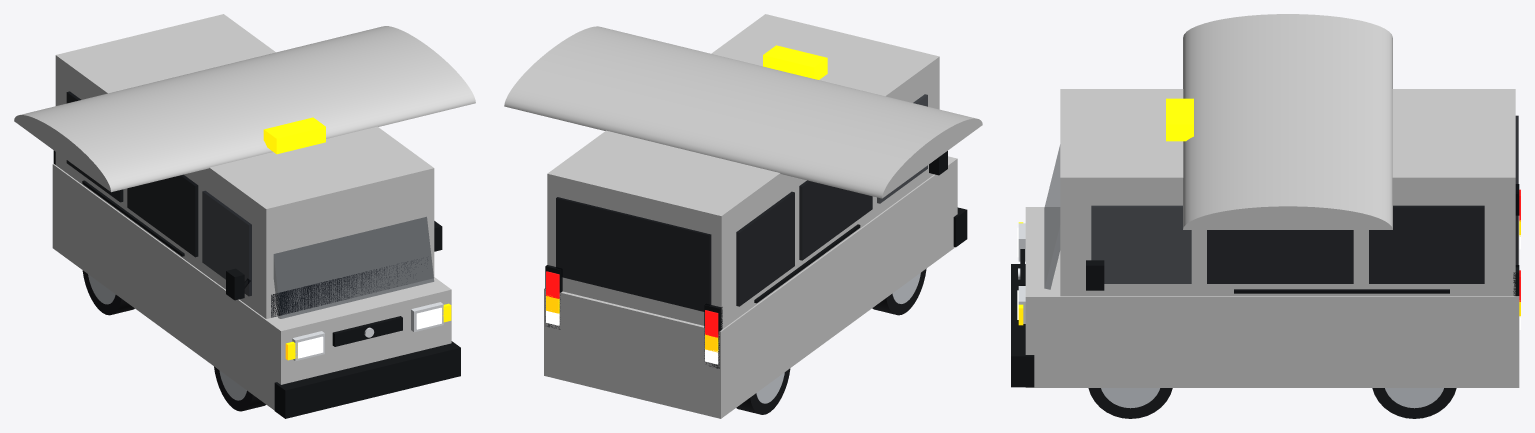
File: damas.glb
The picture shows the model from 3 angles, left to right: view 1: azimuth 30°, elevation 25°; view 2: azimuth 150°, elevation 25°; view 3: azimuth 270°, elevation 25°; orthographic projection. The views are drawn at different scales.
Parts seen in each view (by area): view 1: body_group, wheel_rr, wheel_fr; view 2: body_group, wheel_rr, wheel_fr; view 3: body_group, wheel_rl, wheel_fl.
Part boxes in pixels (x1,y1,x2,y2): body_group: (14, 14, 475, 418); wheel_rr: (82, 270, 134, 315); wheel_fr: (214, 366, 266, 411); body_group: (504, 14, 982, 418); wheel_rr: (736, 368, 790, 414); wheel_fr: (872, 268, 926, 315); body_group: (1011, 14, 1520, 387); wheel_rl: (1372, 388, 1456, 418); wheel_fl: (1088, 388, 1172, 418).
Size of the model in its own units: 2.95 by 1.89 by 3.31.
